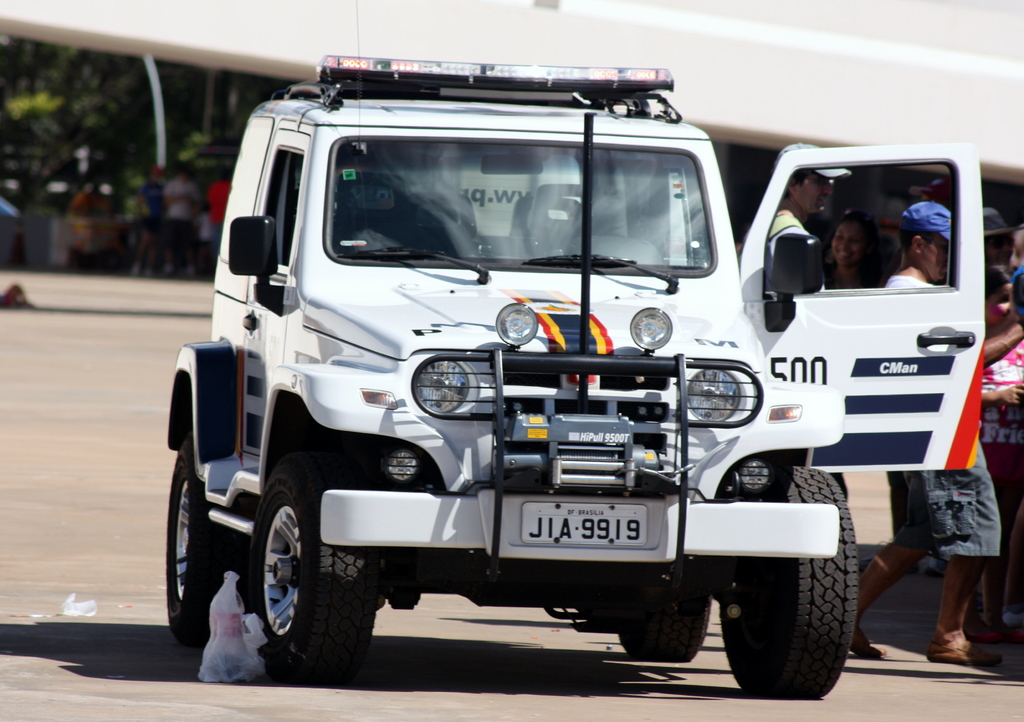Car: (163, 0, 985, 695)
